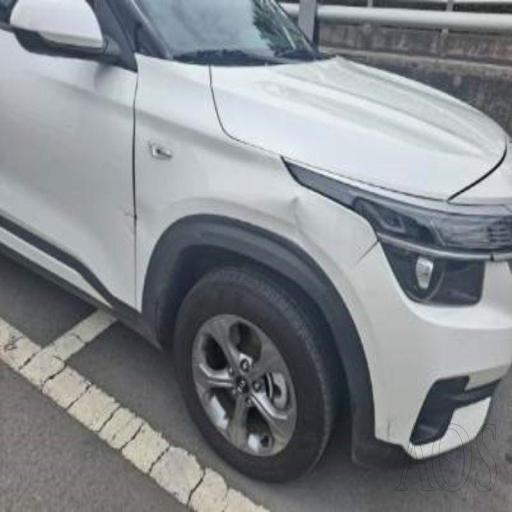dent: (211, 136, 394, 307)
scratch: (106, 160, 156, 255)
